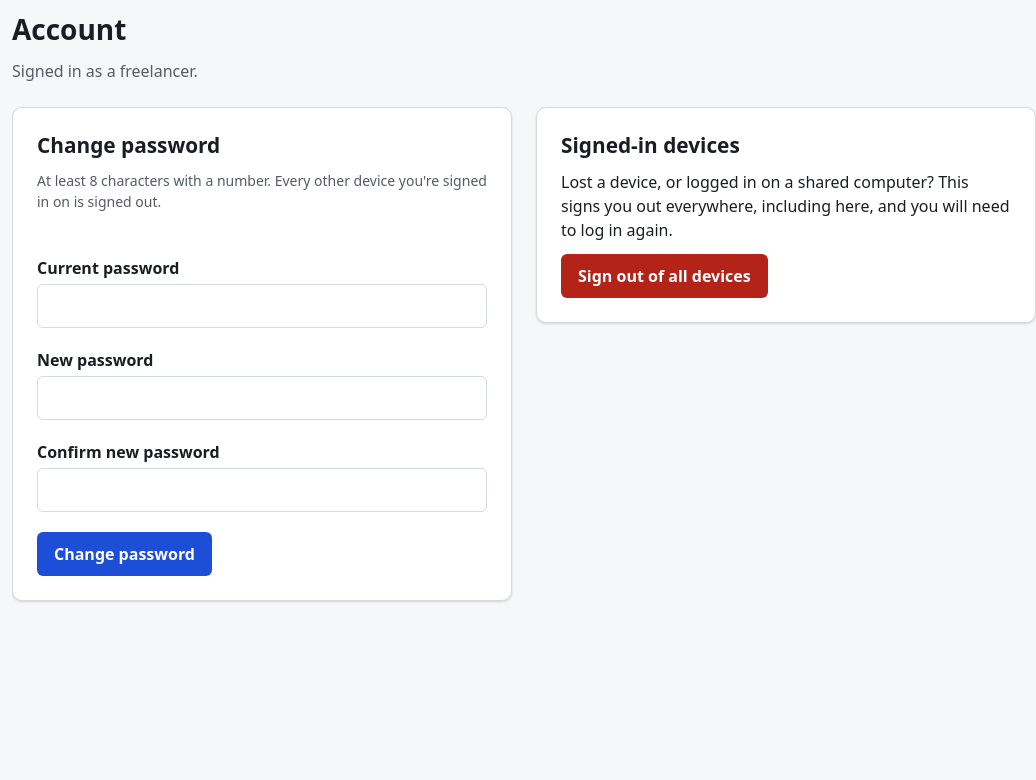
Account page - change password › changes the password, shows success and clears the fields
The image size is (1036, 780).
Type "OldPassword1" into the password field labelled "Current password" at (262, 306), box [37,284,487,328]
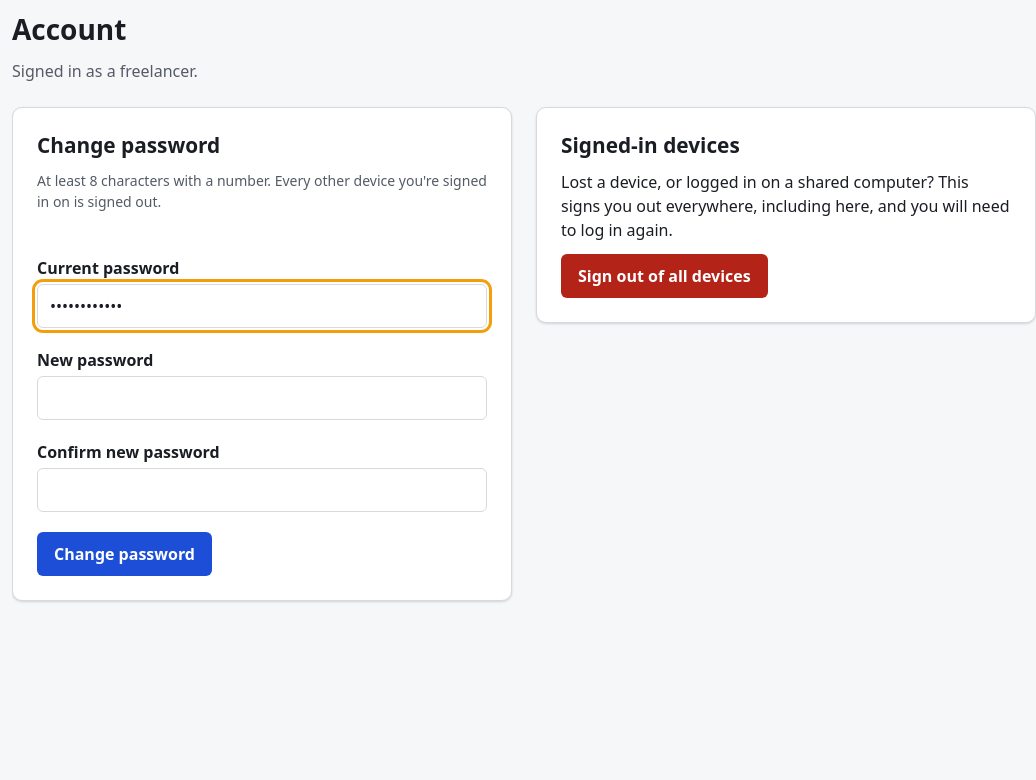
Type "NewPassword2" into the password field labelled "New password" at (262, 398), box [37,376,487,420]
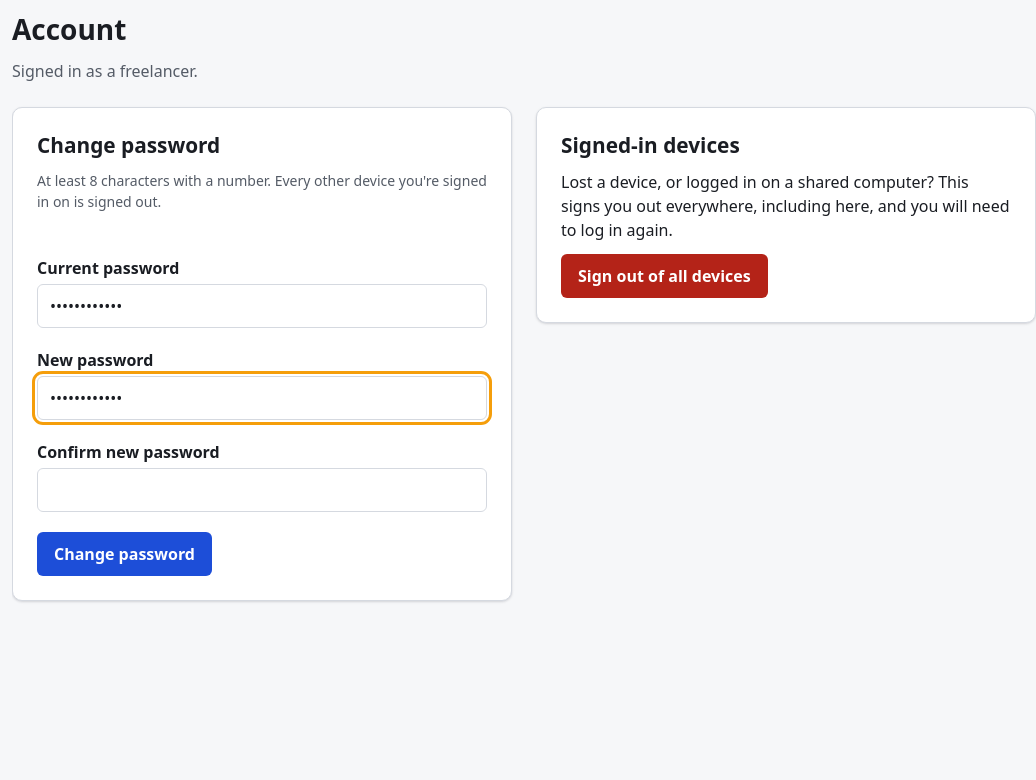
Type "NewPassword2" into the password field labelled "Confirm new password" at (262, 490), box [37,468,487,512]
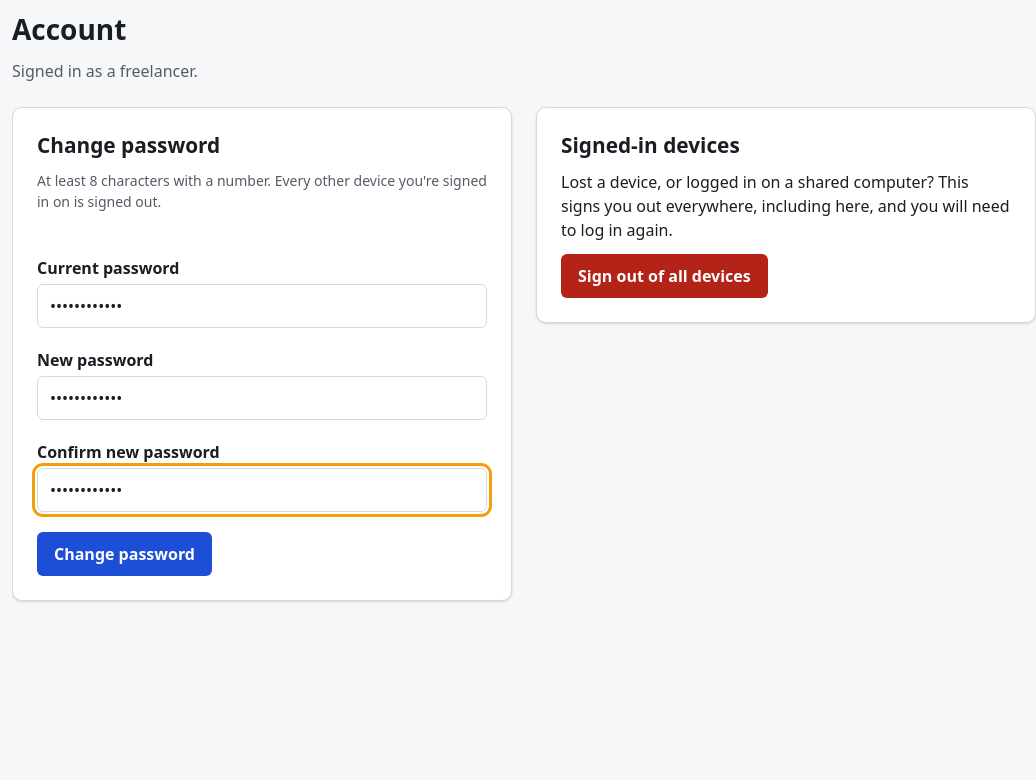
Click the button "Change password" at (124, 554), box [37,532,212,576]
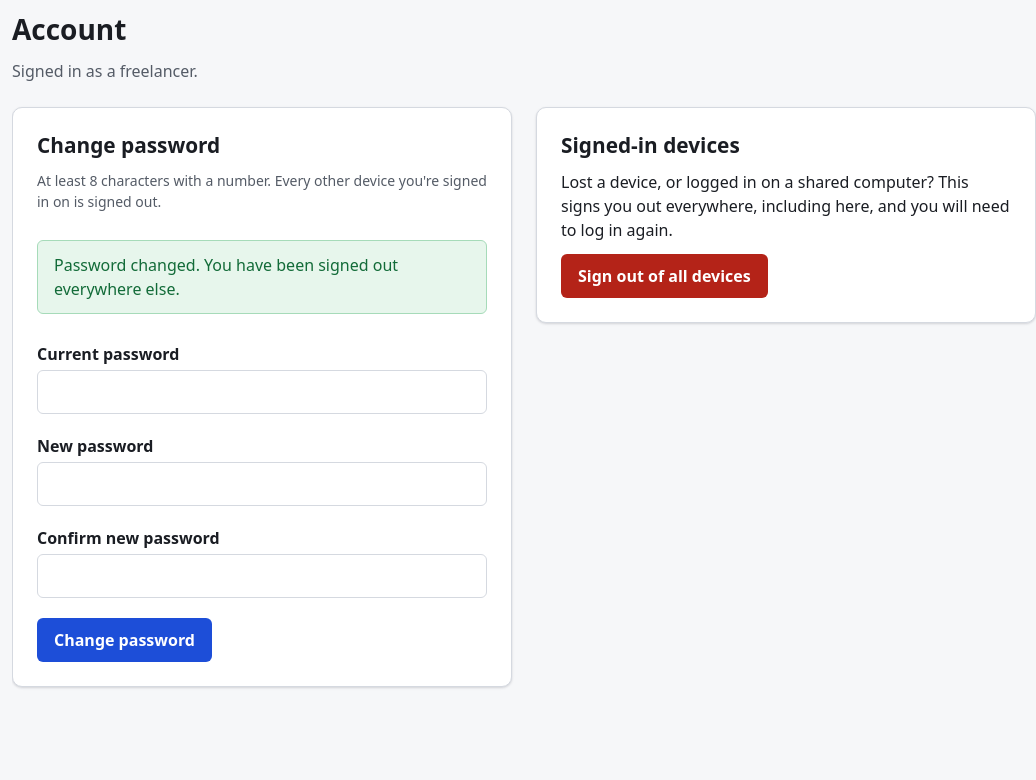
expect the text "Password changed. You have been signed out everywhere else." is shown: met, box [37,240,487,314]
expect the password field labelled "Current password" is empty: met, box [37,370,487,414]
expect the password field labelled "New password" is empty: met, box [37,462,487,506]
